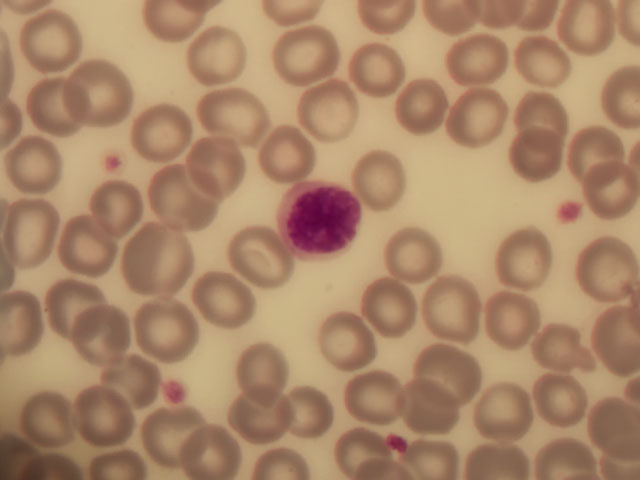Platelets: (99, 150, 124, 175), (162, 378, 186, 404), (383, 430, 410, 450), (560, 199, 581, 223)
RBC: (16, 4, 85, 74), (69, 57, 138, 127), (23, 76, 92, 146), (6, 131, 75, 201), (52, 214, 121, 284), (85, 168, 154, 238), (148, 163, 217, 233), (184, 136, 253, 206), (131, 101, 200, 171), (197, 84, 266, 154), (185, 21, 254, 91), (249, 115, 318, 185), (296, 72, 365, 142), (267, 24, 336, 94), (343, 39, 412, 109), (384, 69, 453, 139), (432, 79, 501, 149), (445, 28, 514, 98), (500, 75, 569, 145), (508, 123, 577, 193), (505, 28, 574, 98), (563, 110, 632, 180), (571, 152, 640, 222), (571, 237, 640, 307), (501, 223, 570, 293), (383, 218, 452, 288), (353, 148, 422, 218), (233, 222, 302, 292), (194, 267, 263, 337), (131, 226, 200, 296), (44, 277, 113, 347), (67, 301, 136, 371), (133, 292, 202, 362), (98, 341, 167, 411), (72, 376, 141, 446), (25, 389, 94, 459), (141, 397, 210, 467), (168, 410, 237, 480), (224, 382, 293, 452), (231, 333, 300, 403), (271, 370, 340, 440), (342, 362, 411, 432), (308, 308, 377, 378), (352, 273, 421, 343), (423, 271, 492, 341), (412, 335, 481, 405), (404, 364, 473, 434), (465, 376, 534, 446), (527, 363, 596, 433), (521, 313, 590, 383), (486, 289, 555, 359), (552, 1, 621, 70), (1, 193, 69, 263), (530, 427, 602, 480), (462, 427, 534, 480), (318, 427, 390, 480), (593, 303, 640, 371), (593, 391, 640, 459)
WBC: (280, 182, 365, 261)
